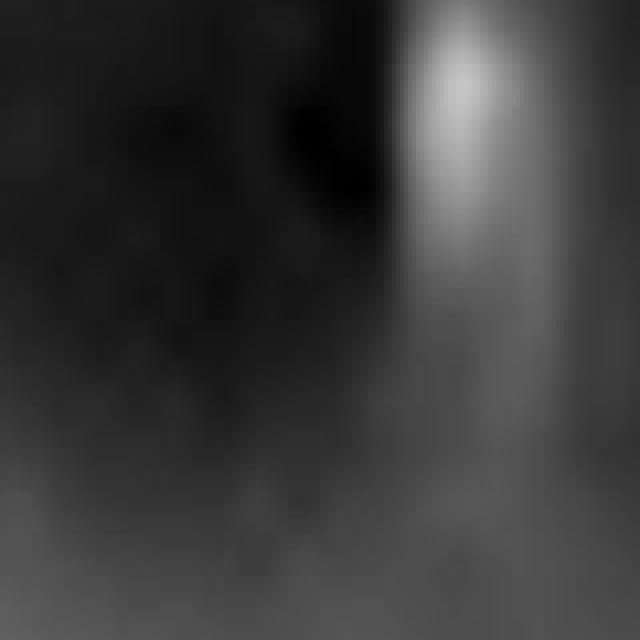person: (337, 1, 569, 465)
